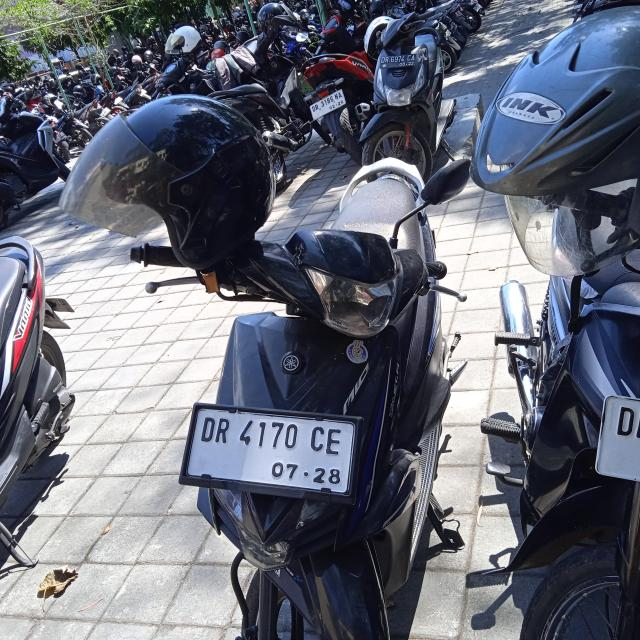plate: (191, 404, 353, 492), (310, 87, 347, 121), (380, 54, 416, 68)
